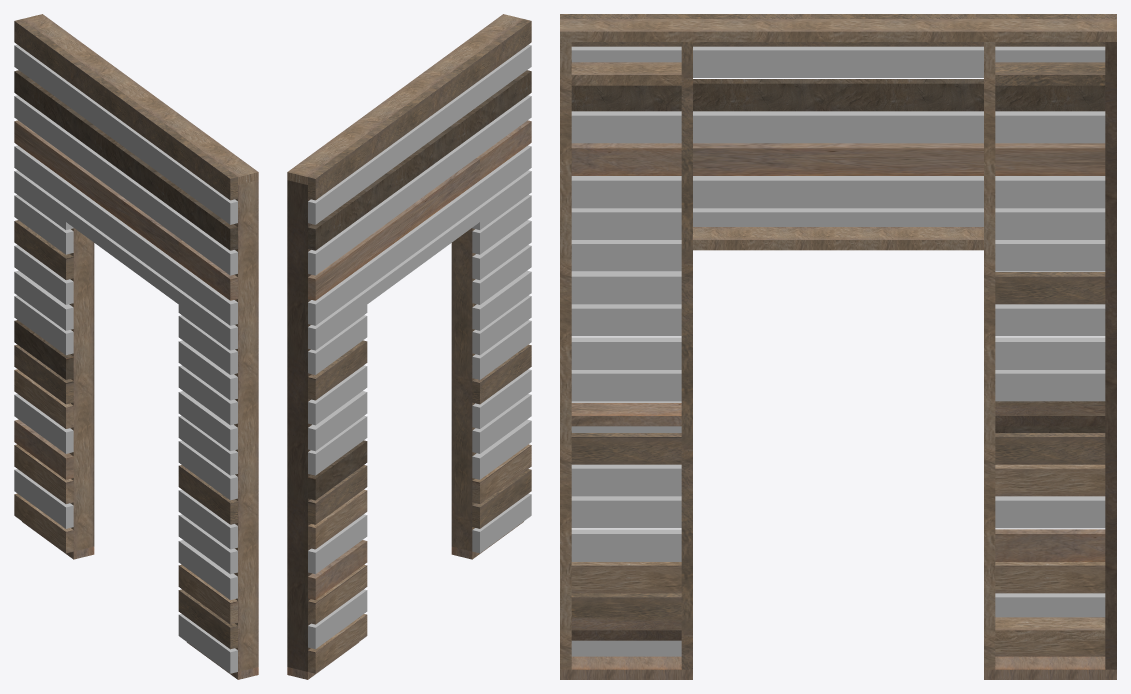
Rendered from WoodWallDoorA.fbx.
3 views of the same model, side by side, from view 1: azimuth 30°, elevation 25°; view 2: azimuth 150°, elevation 25°; view 3: azimuth 270°, elevation 25° (orthographic). The views are drawn at different scales.
Parts seen in each view (by area): view 1: WoodWallDoorA; view 2: WoodWallDoorA; view 3: WoodWallDoorA.
Part boxes in pixels (x1,y1,x2,y2): WoodWallDoorA: (14, 14, 258, 679); WoodWallDoorA: (287, 14, 531, 679); WoodWallDoorA: (560, 14, 1116, 679).
Bounding box in the file's own units: 22 × 374 × 291.
